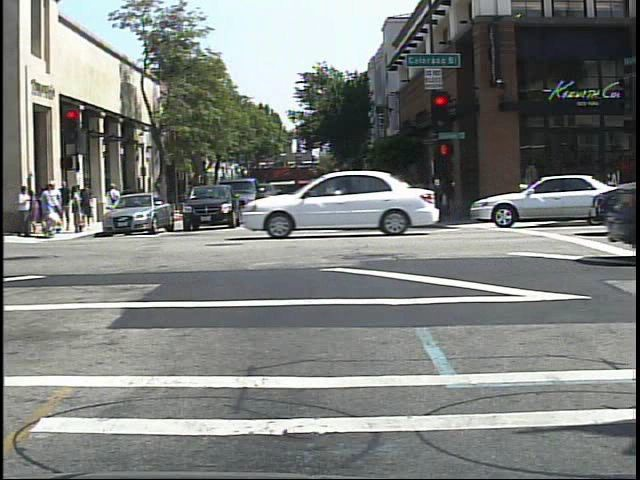person: (104, 179, 124, 226)
